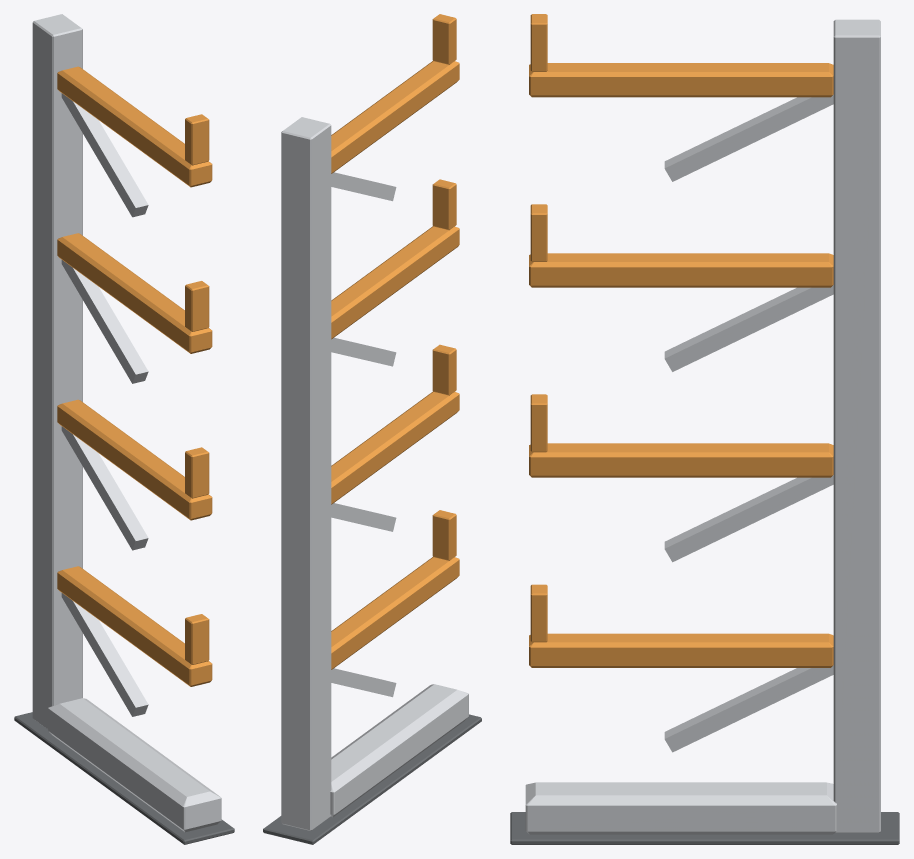
File: cantilever-rack-single-sided.glb
3 renders of one model, left to right at view 1: azimuth 30°, elevation 25°; view 2: azimuth 150°, elevation 25°; view 3: azimuth 270°, elevation 25°, orthographic. The views are drawn at different scales.
Visible parts, largest first — view 1: cantilever-rack-single; view 2: cantilever-rack-single; view 3: cantilever-rack-single.
Part boxes in pixels (x1,y1,x2,y2): cantilever-rack-single: (14,14,234,844); cantilever-rack-single: (263,14,481,844); cantilever-rack-single: (510,14,899,844).
Size of the model in its own units: 0.2 by 2.65 by 1.15.
